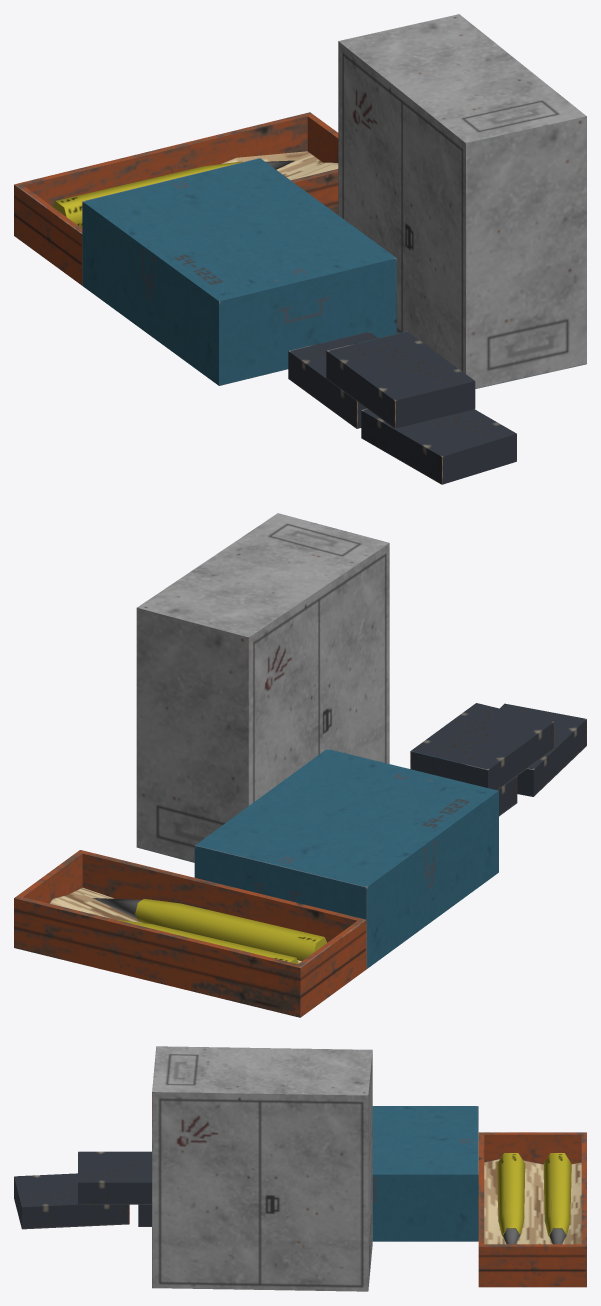
File: boxes_1_glb.glb
3 renders of one model, top to bottom at view 1: azimuth 30°, elevation 25°; view 2: azimuth 150°, elevation 25°; view 3: azimuth 270°, elevation 25°, orthographic. The views are drawn at different scales.
Parts seen in each view (by area): view 1: Box001; view 2: Box001; view 3: Box001.
Boxes of the visible parts, box(x1,y1,x2,y2) form: Box001: box(14, 14, 586, 484); Box001: box(14, 513, 586, 1017); Box001: box(14, 1046, 586, 1291).
Bounding box in the file's own units: 1.32 × 1.02 × 2.69.
Materials: 1 (1 with a texture image).
